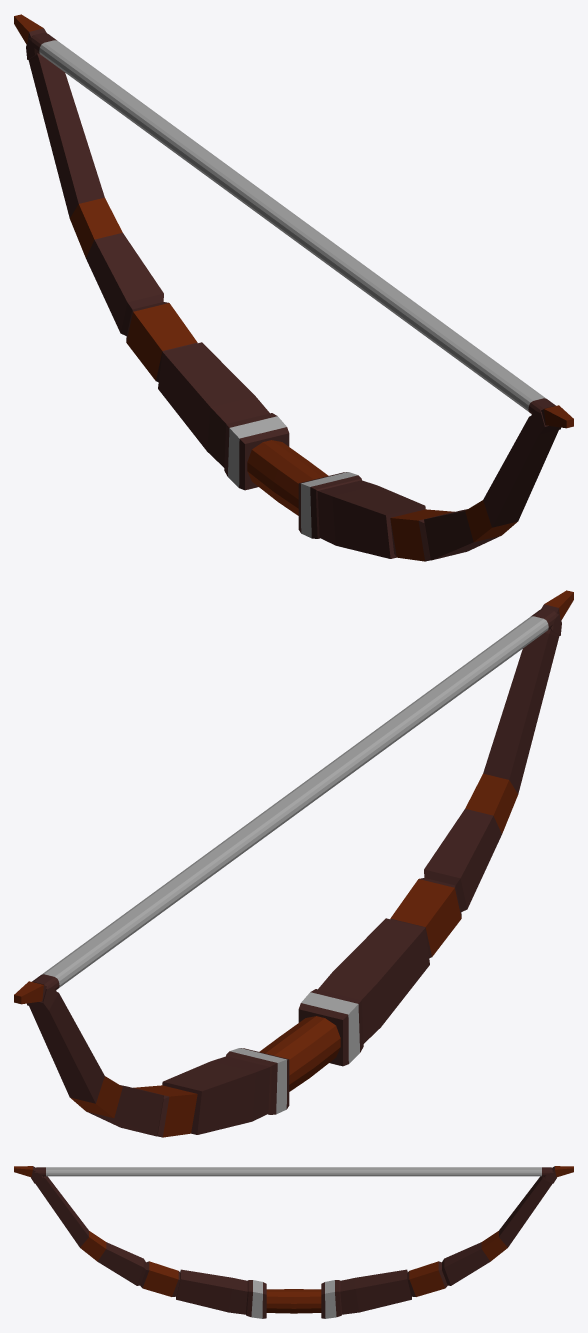
Rendered from Bow.fbx.
3 views of the same model, one above another, from view 1: azimuth 30°, elevation 25°; view 2: azimuth 150°, elevation 25°; view 3: azimuth 270°, elevation 25° (orthographic). The views are drawn at different scales.
Parts seen in each view (by area): view 1: Cube.002; view 2: Cube.002; view 3: Cube.002.
Part boxes in pixels (x1=…): Cube.002: x1=14, y1=14, x2=573, y2=561; Cube.002: x1=14, y1=590, x2=573, y2=1137; Cube.002: x1=14, y1=1166, x2=573, y2=1318.
Bounding box in the file's own units: 984 × 5599 × 19505.
